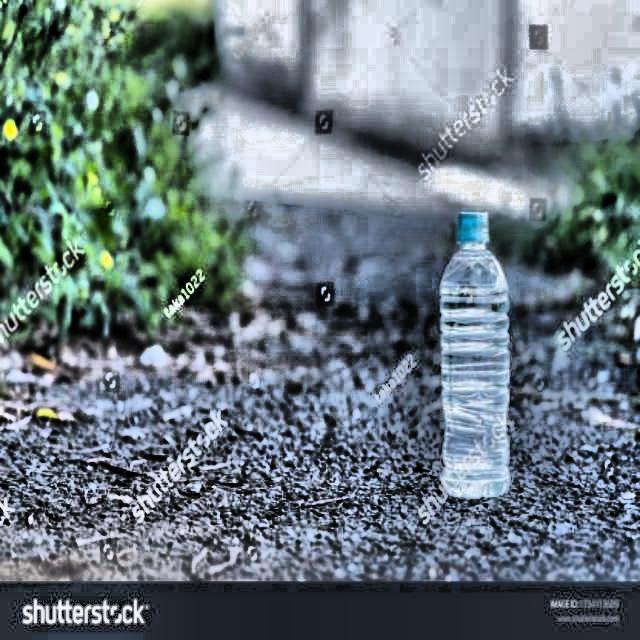Bottles: (414, 196, 534, 509)
